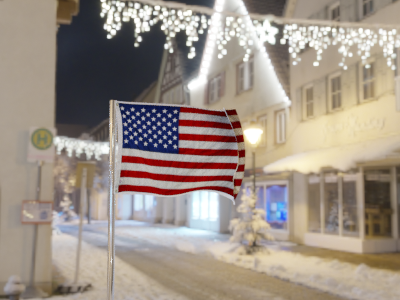America flag: (113, 101, 247, 207)
